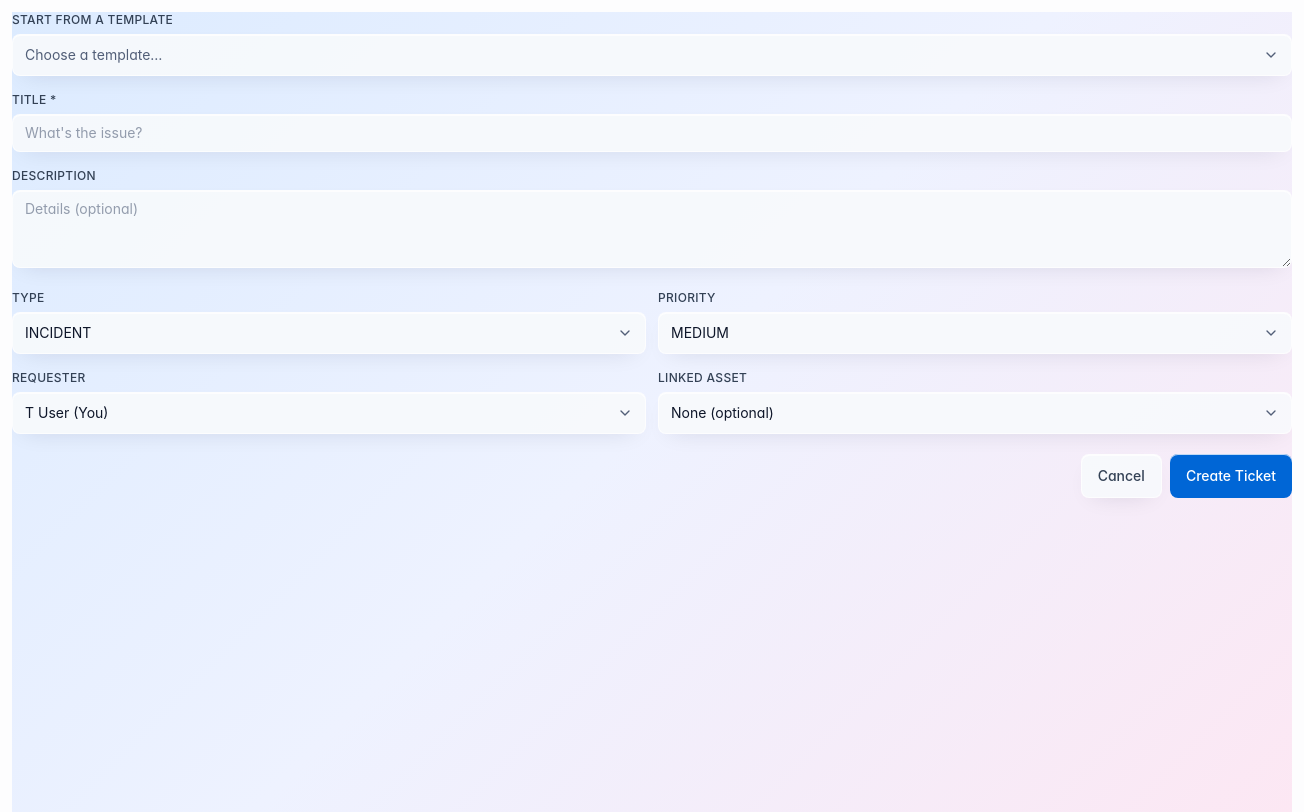
Test: NewTicketForm UX minors (issues 187/188/214-216) › UX-42 (#216): the applied template name stays visible
Click the button "Choose a template…" at coordinates (94, 54), box x1=12 y1=34 x2=1292 y2=76
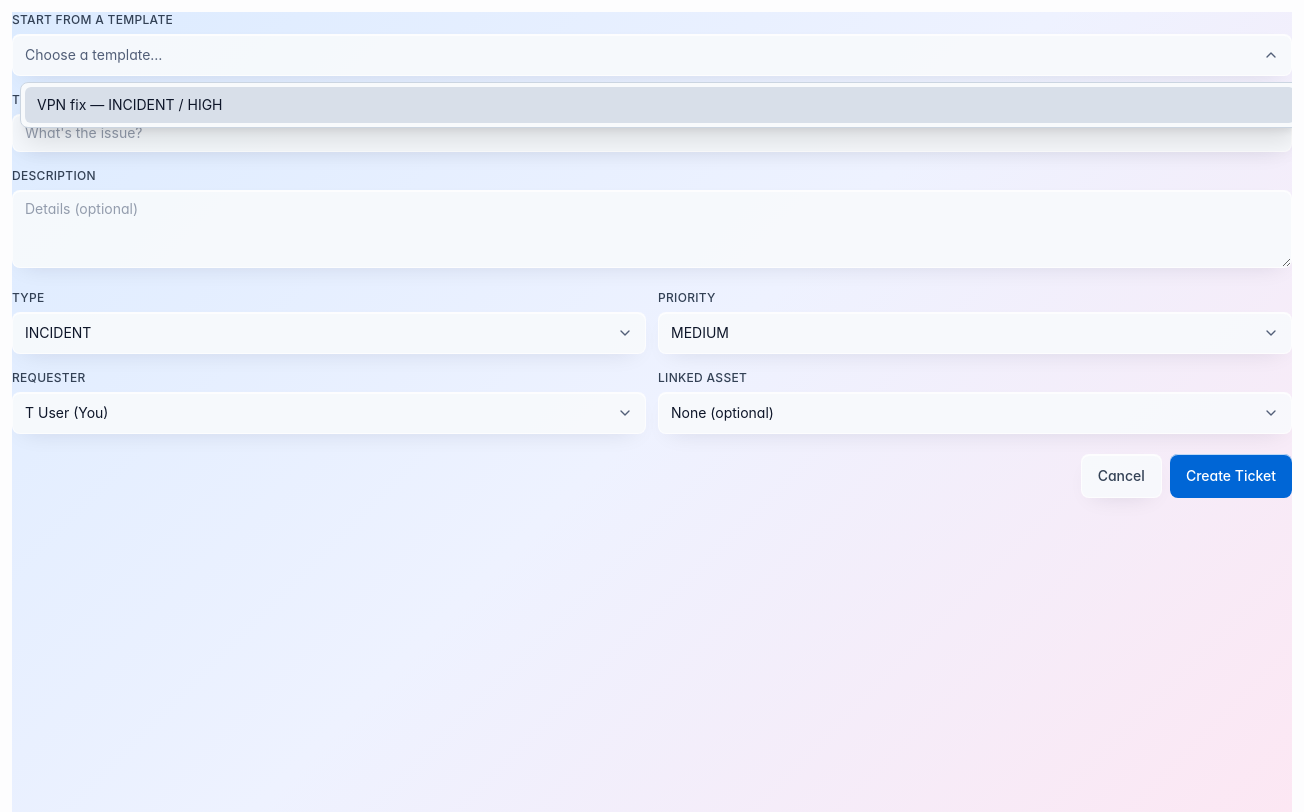
Click the option "VPN fix — INCIDENT / HIGH" at coordinates (130, 104), box x1=25 y1=87 x2=1292 y2=123
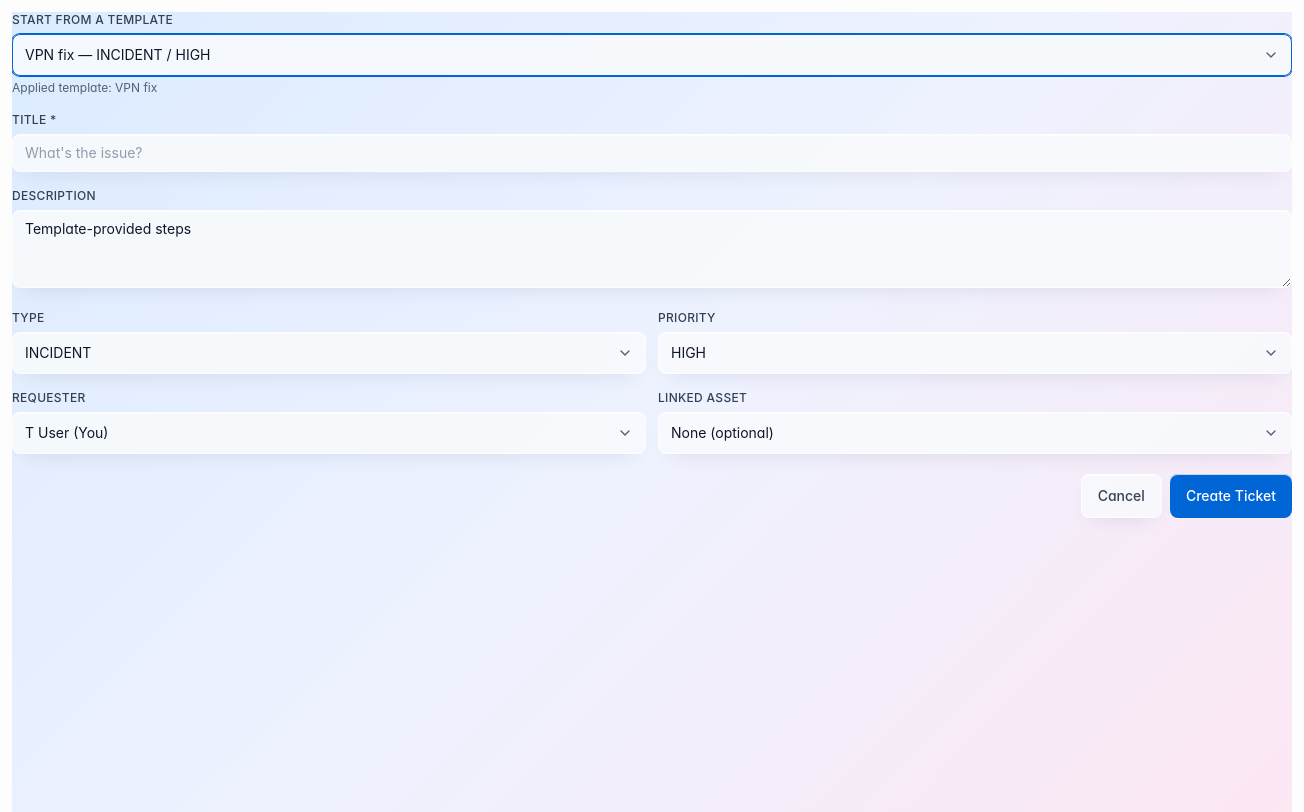
Now the text "Applied template: VPN fix" is shown, box x1=12 y1=80 x2=157 y2=95
Now the button with aria-label "Choose a template" shows "VPN fix", box x1=12 y1=34 x2=1292 y2=76
